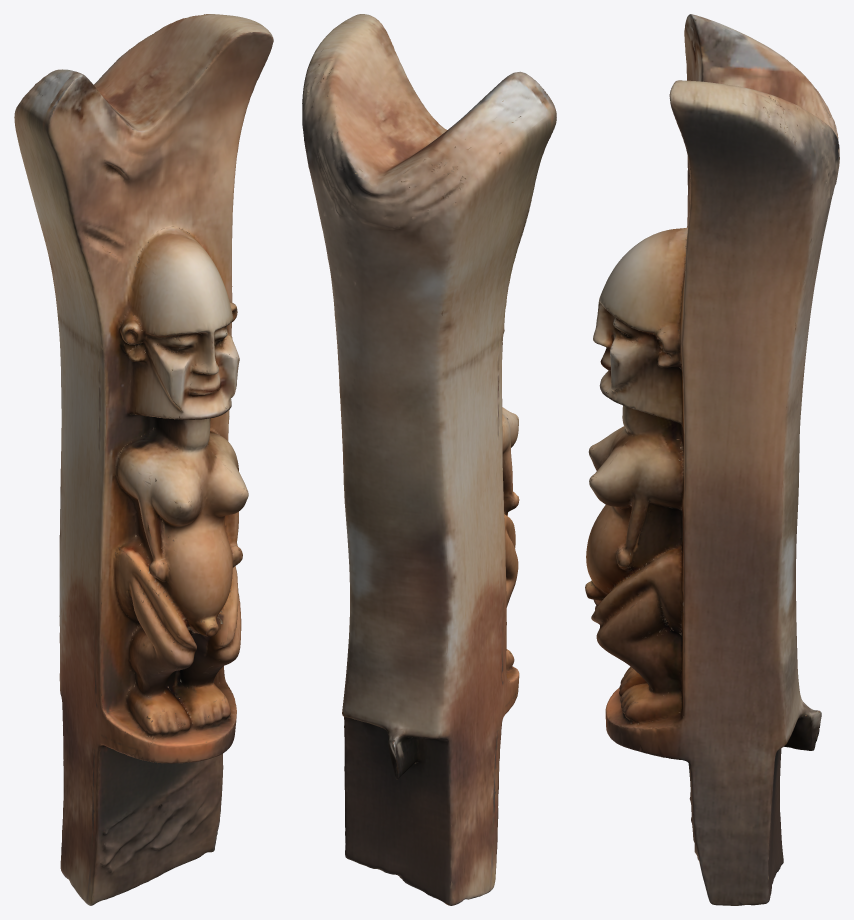
Rendered from pilier_05.glb.
The picture shows the model from 3 angles, left to right: view 1: azimuth 30°, elevation 25°; view 2: azimuth 150°, elevation 25°; view 3: azimuth 270°, elevation 25°; orthographic projection. The views are drawn at different scales.
Visible parts, largest first — view 1: Mesh_0.002; view 2: Mesh_0.002; view 3: Mesh_0.002.
Part boxes in pixels (x1,y1,x2,y2): Mesh_0.002: [14, 14, 273, 905]; Mesh_0.002: [302, 14, 556, 905]; Mesh_0.002: [585, 14, 839, 905].
Bounding box in the file's own units: 0.3306 × 1.2 × 0.325.
1 material, 1 textured.
